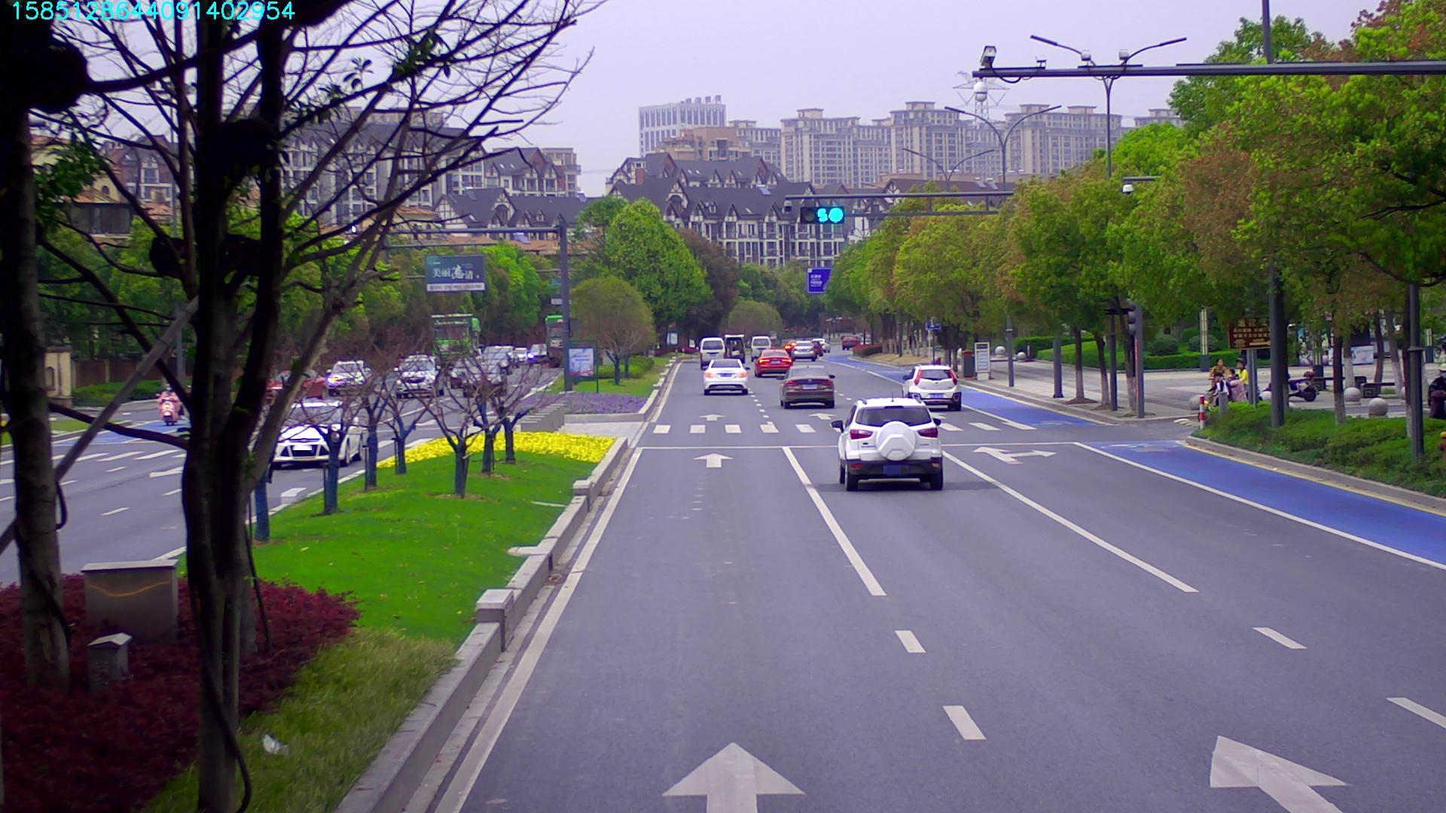green: (795, 206, 842, 221)
